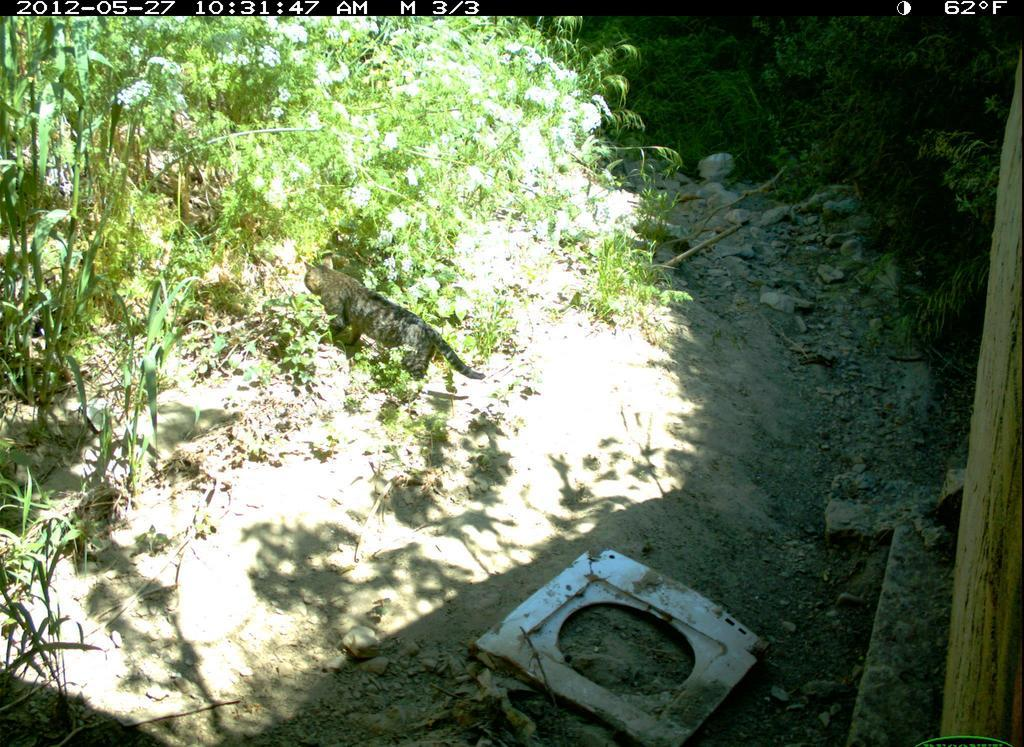cat: (300, 254, 488, 396)
